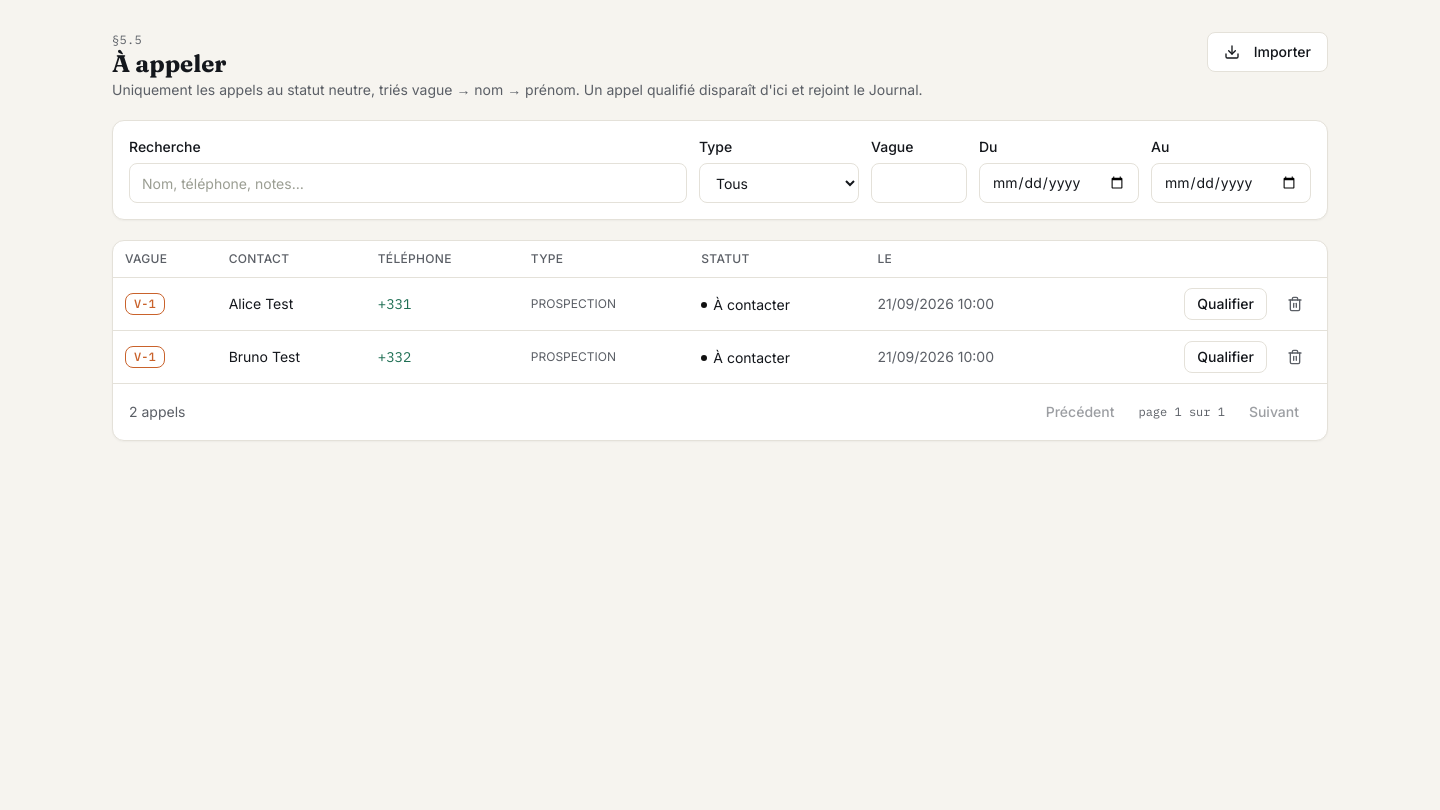
Test: /calls — suppression d'un appel › 409 CALL_HAS_CLIENT_DOSSIER : message backend affiché TEL QUEL, appel toujours présent après fermeture, aucun lien ajouté
The image size is (1440, 810).
Step 1. Click the button named "Supprimer" in the row of "Alice Test" → click(1295, 304), box [1275,288,1315,320]
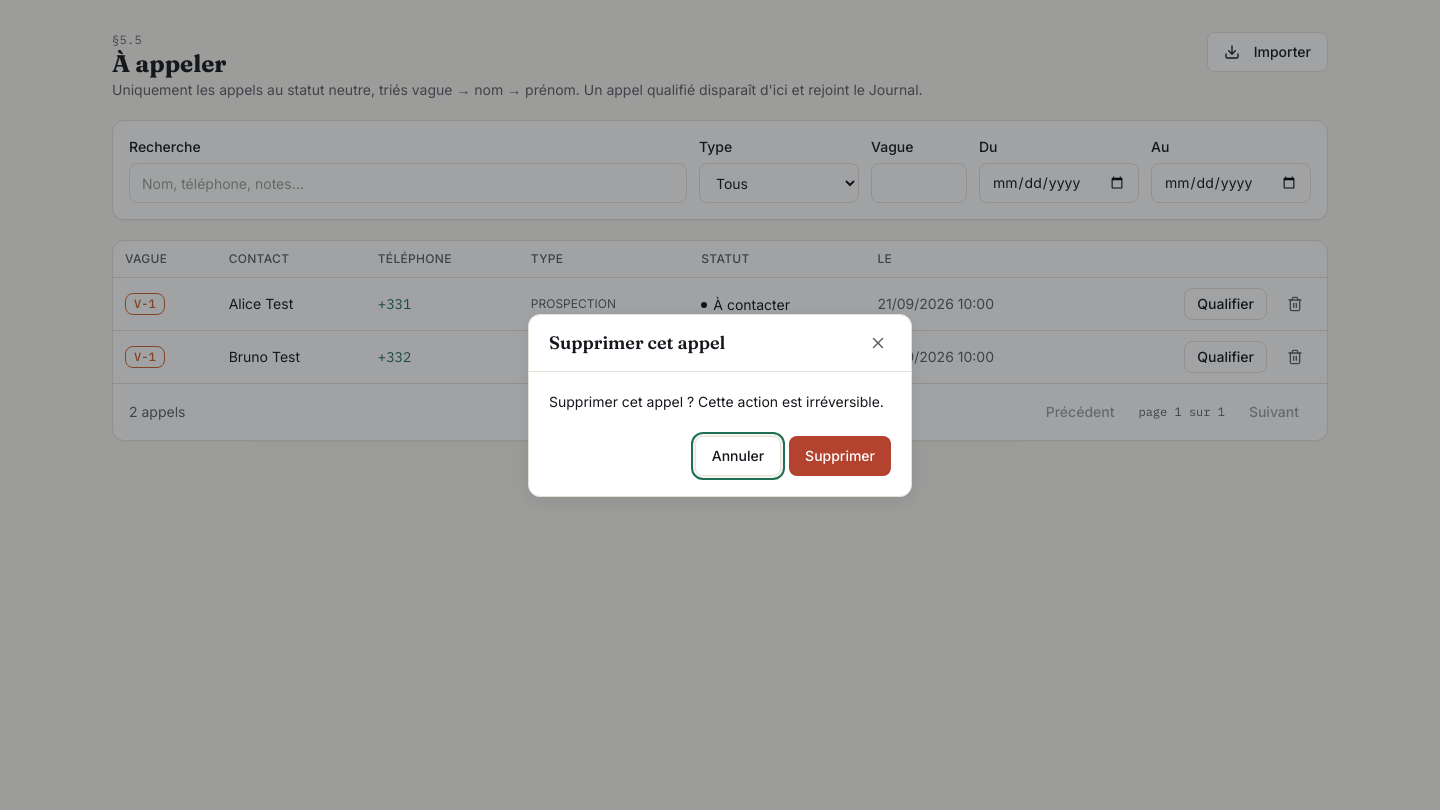
Step 2. Click the button "Supprimer" → click(840, 456), box [789,436,891,476]
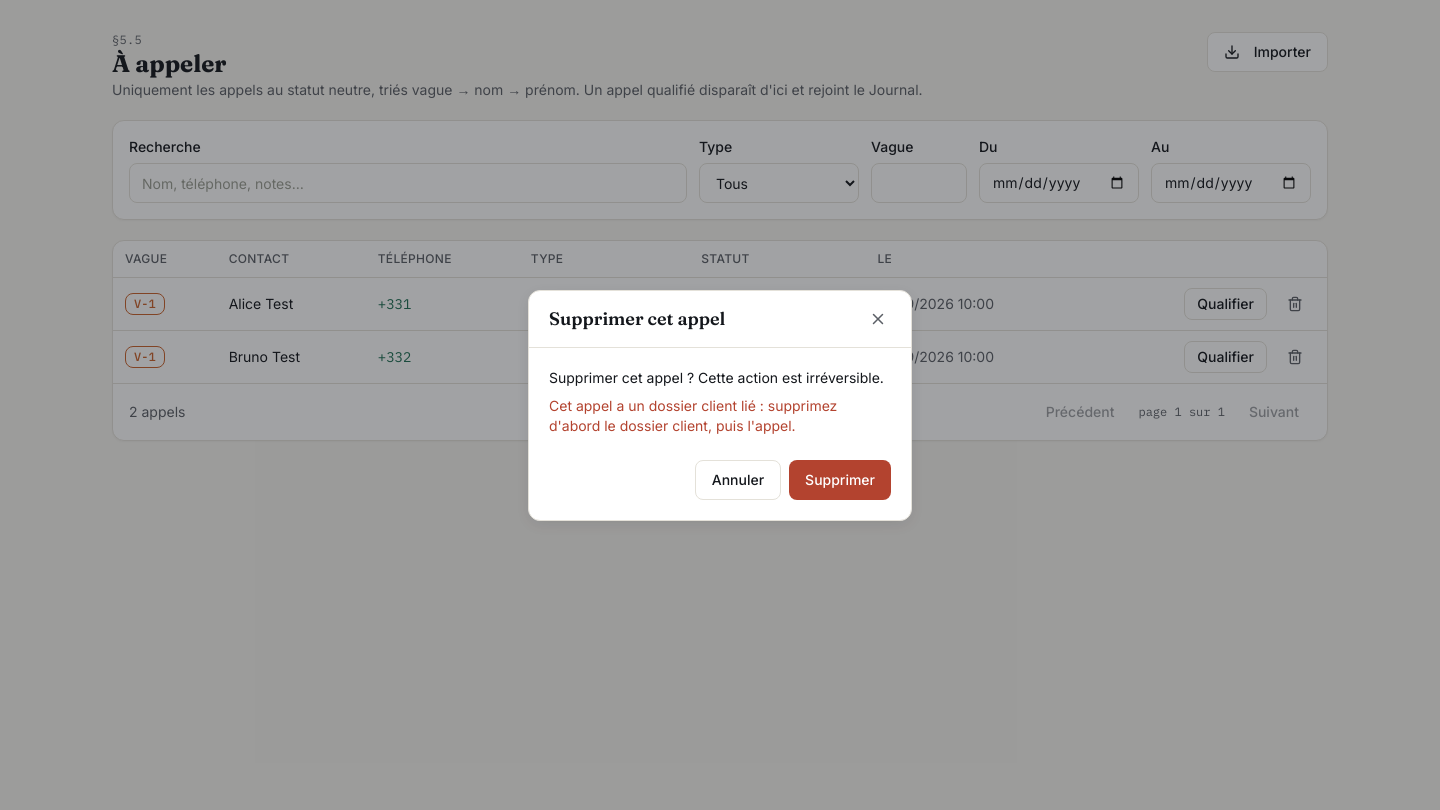
Check: the text "Cet appel a un dossier client lié : supprimez d'abord le dossier client, puis l'appel." is shown, box [549,396,837,434]
Step 3. Click the button "Annuler" → click(738, 480), box [695,460,781,500]
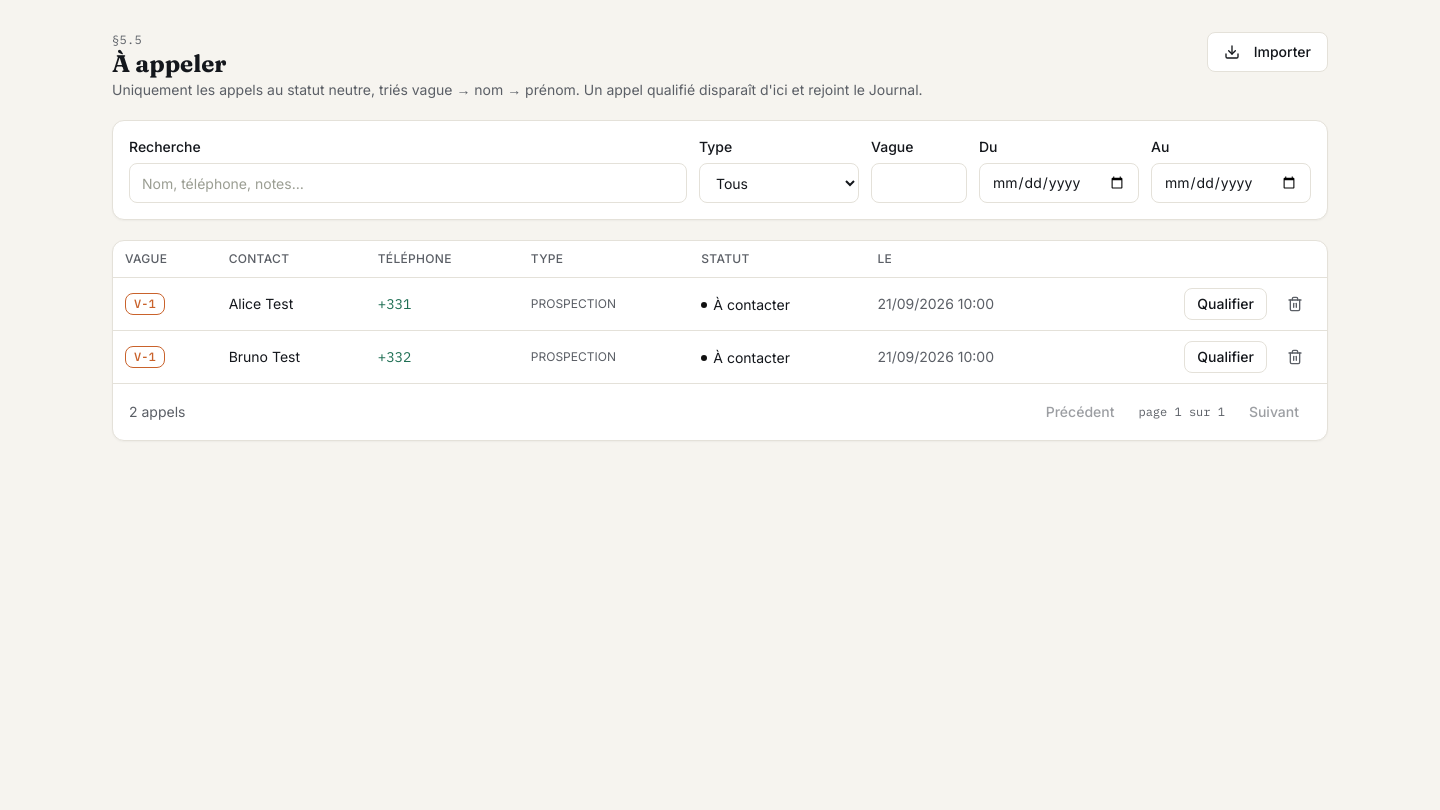
Check: the text "Alice Test" is shown, box [217,278,366,330]
Check: the text "Cet appel a un dossier client lié : supprimez d'abord le dossier client, puis l'appel." is gone
